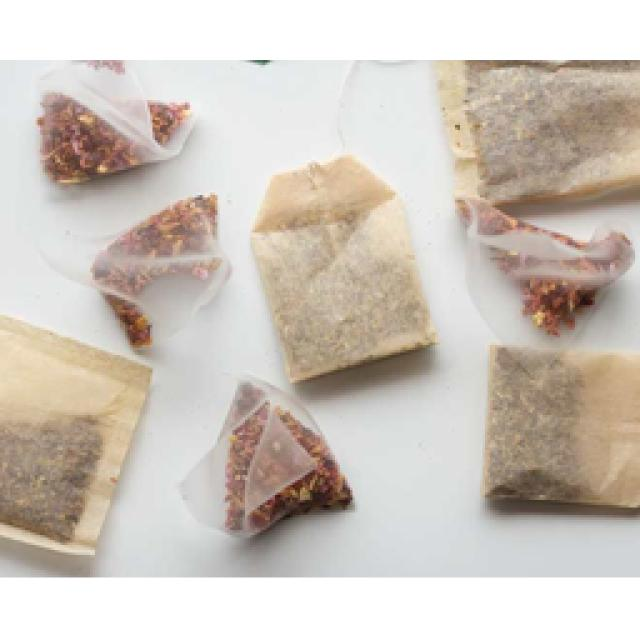tea-bags: (435, 60, 638, 335), (250, 158, 432, 380), (0, 315, 150, 552), (182, 380, 350, 535), (485, 345, 638, 508), (90, 195, 228, 348), (40, 60, 188, 182)
